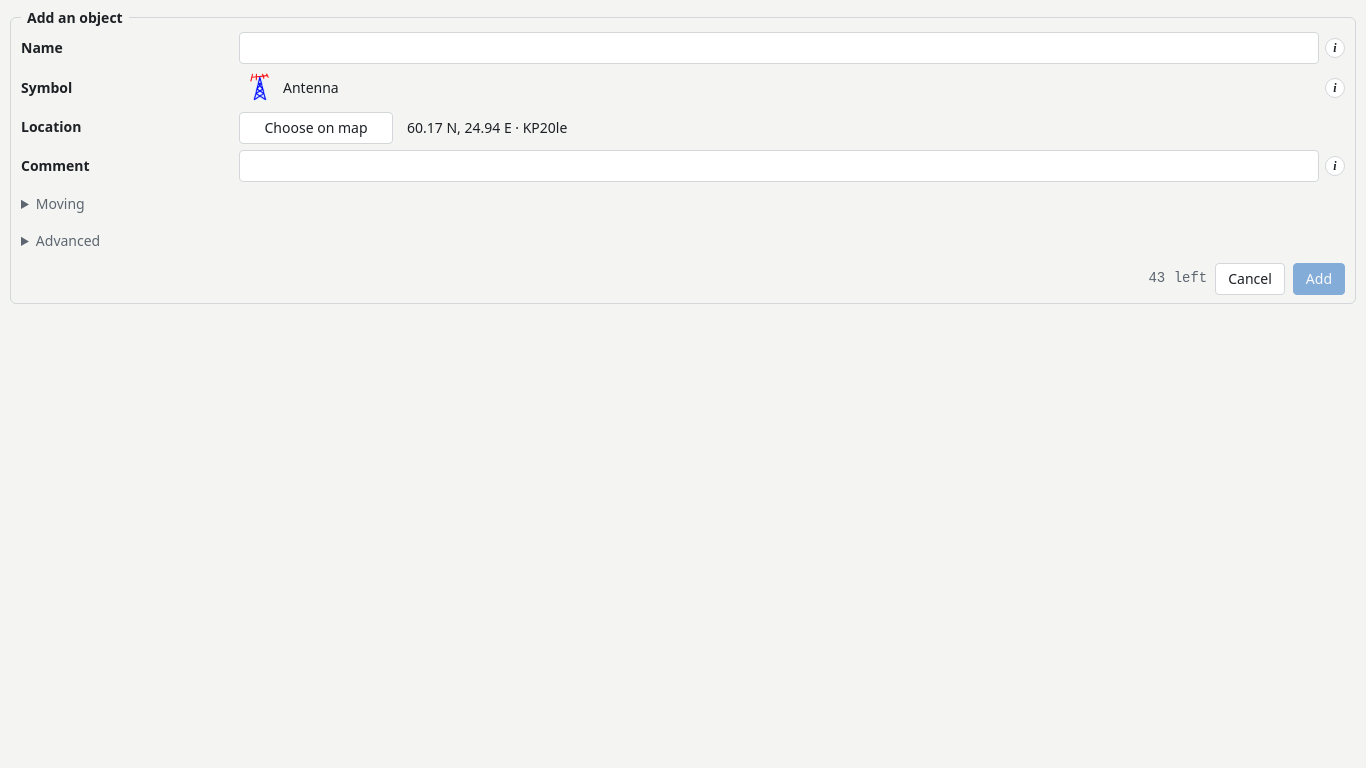
Test case: ObjectForm › shows the symbol as a picture and a name and sets it from the picker, with no table or code to type
This screenshot has width=1366, height=768.
Expected: the element with class "stn-layer" is shown, [243, 72, 275, 104]
Click the button with class "symbolbtn" at (259, 88), box [239, 70, 1319, 106]
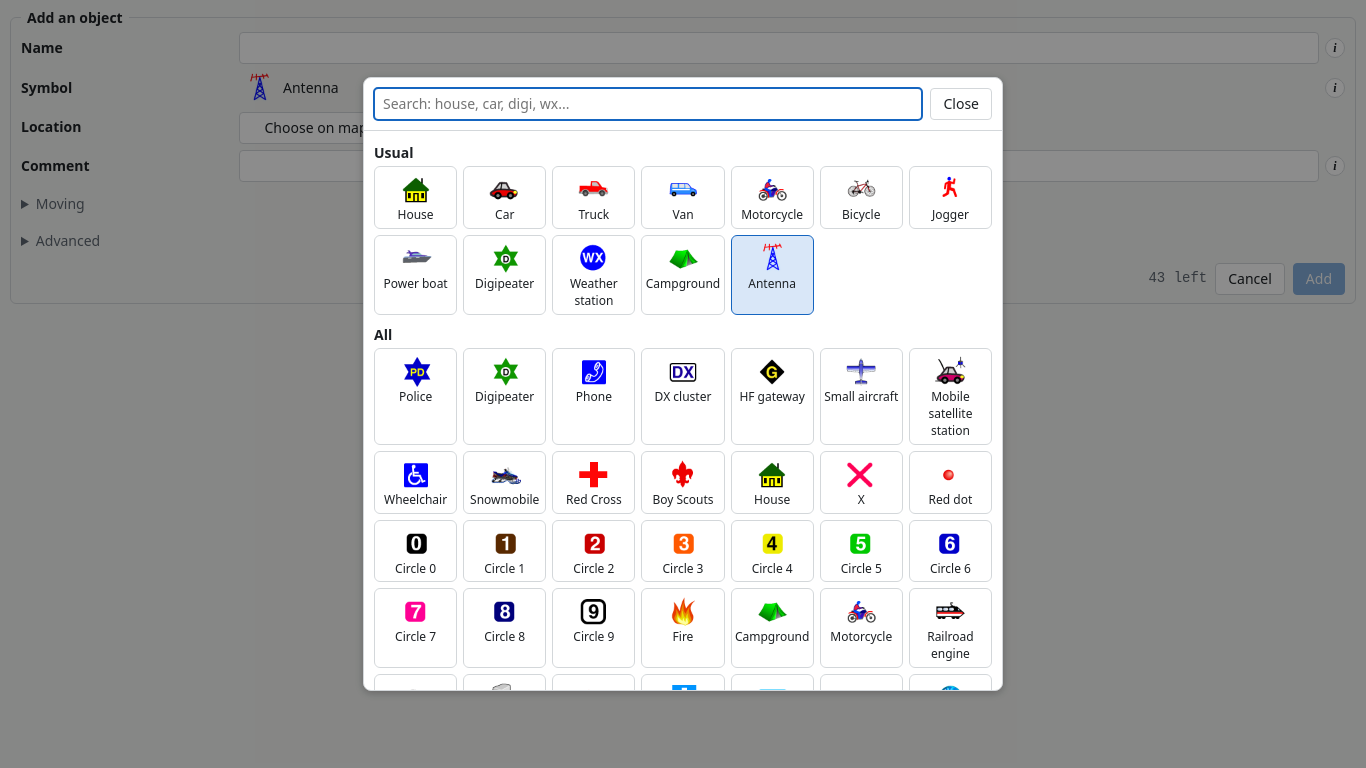
Click the 1st button with class "sympick-symbol" at (416, 198), box [374, 166, 457, 229]
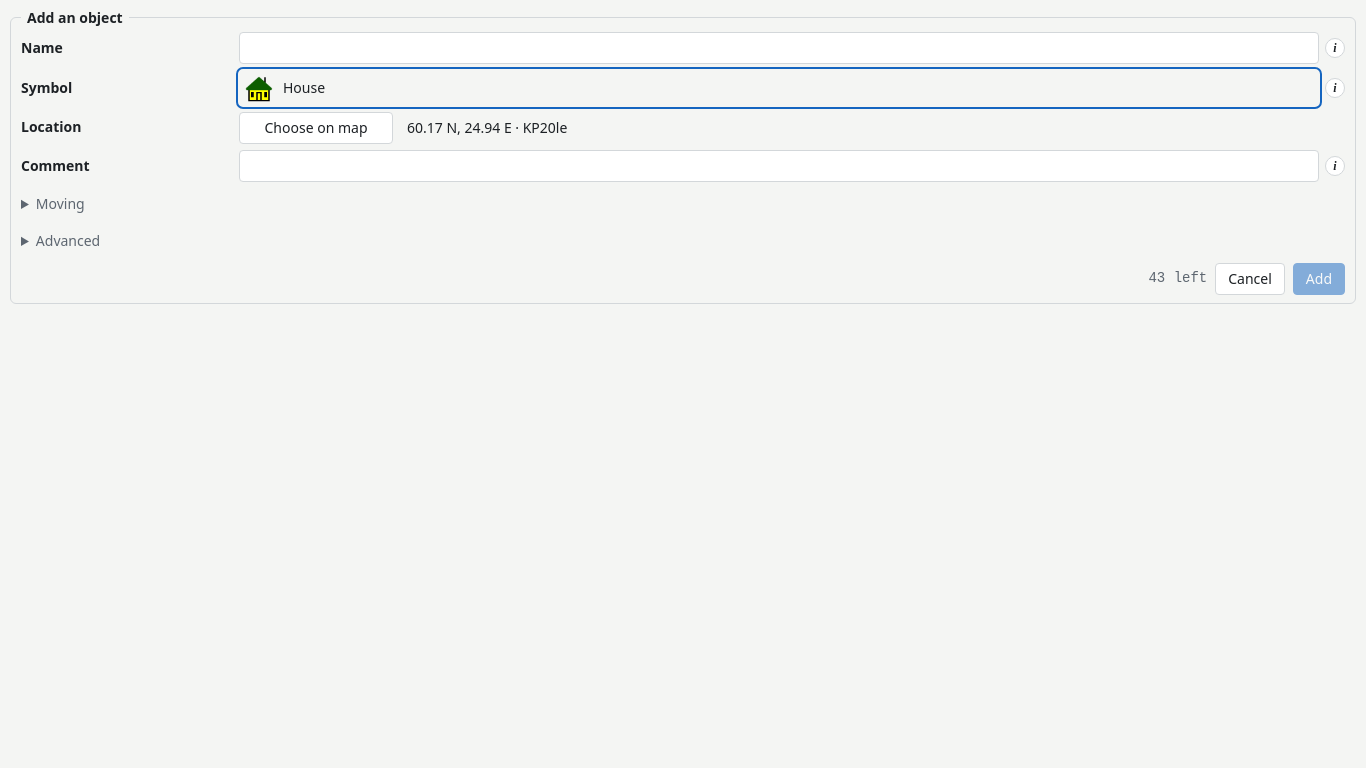
Expected: the text with class "symbolfield-name" reads "House", [283, 78, 325, 97]
